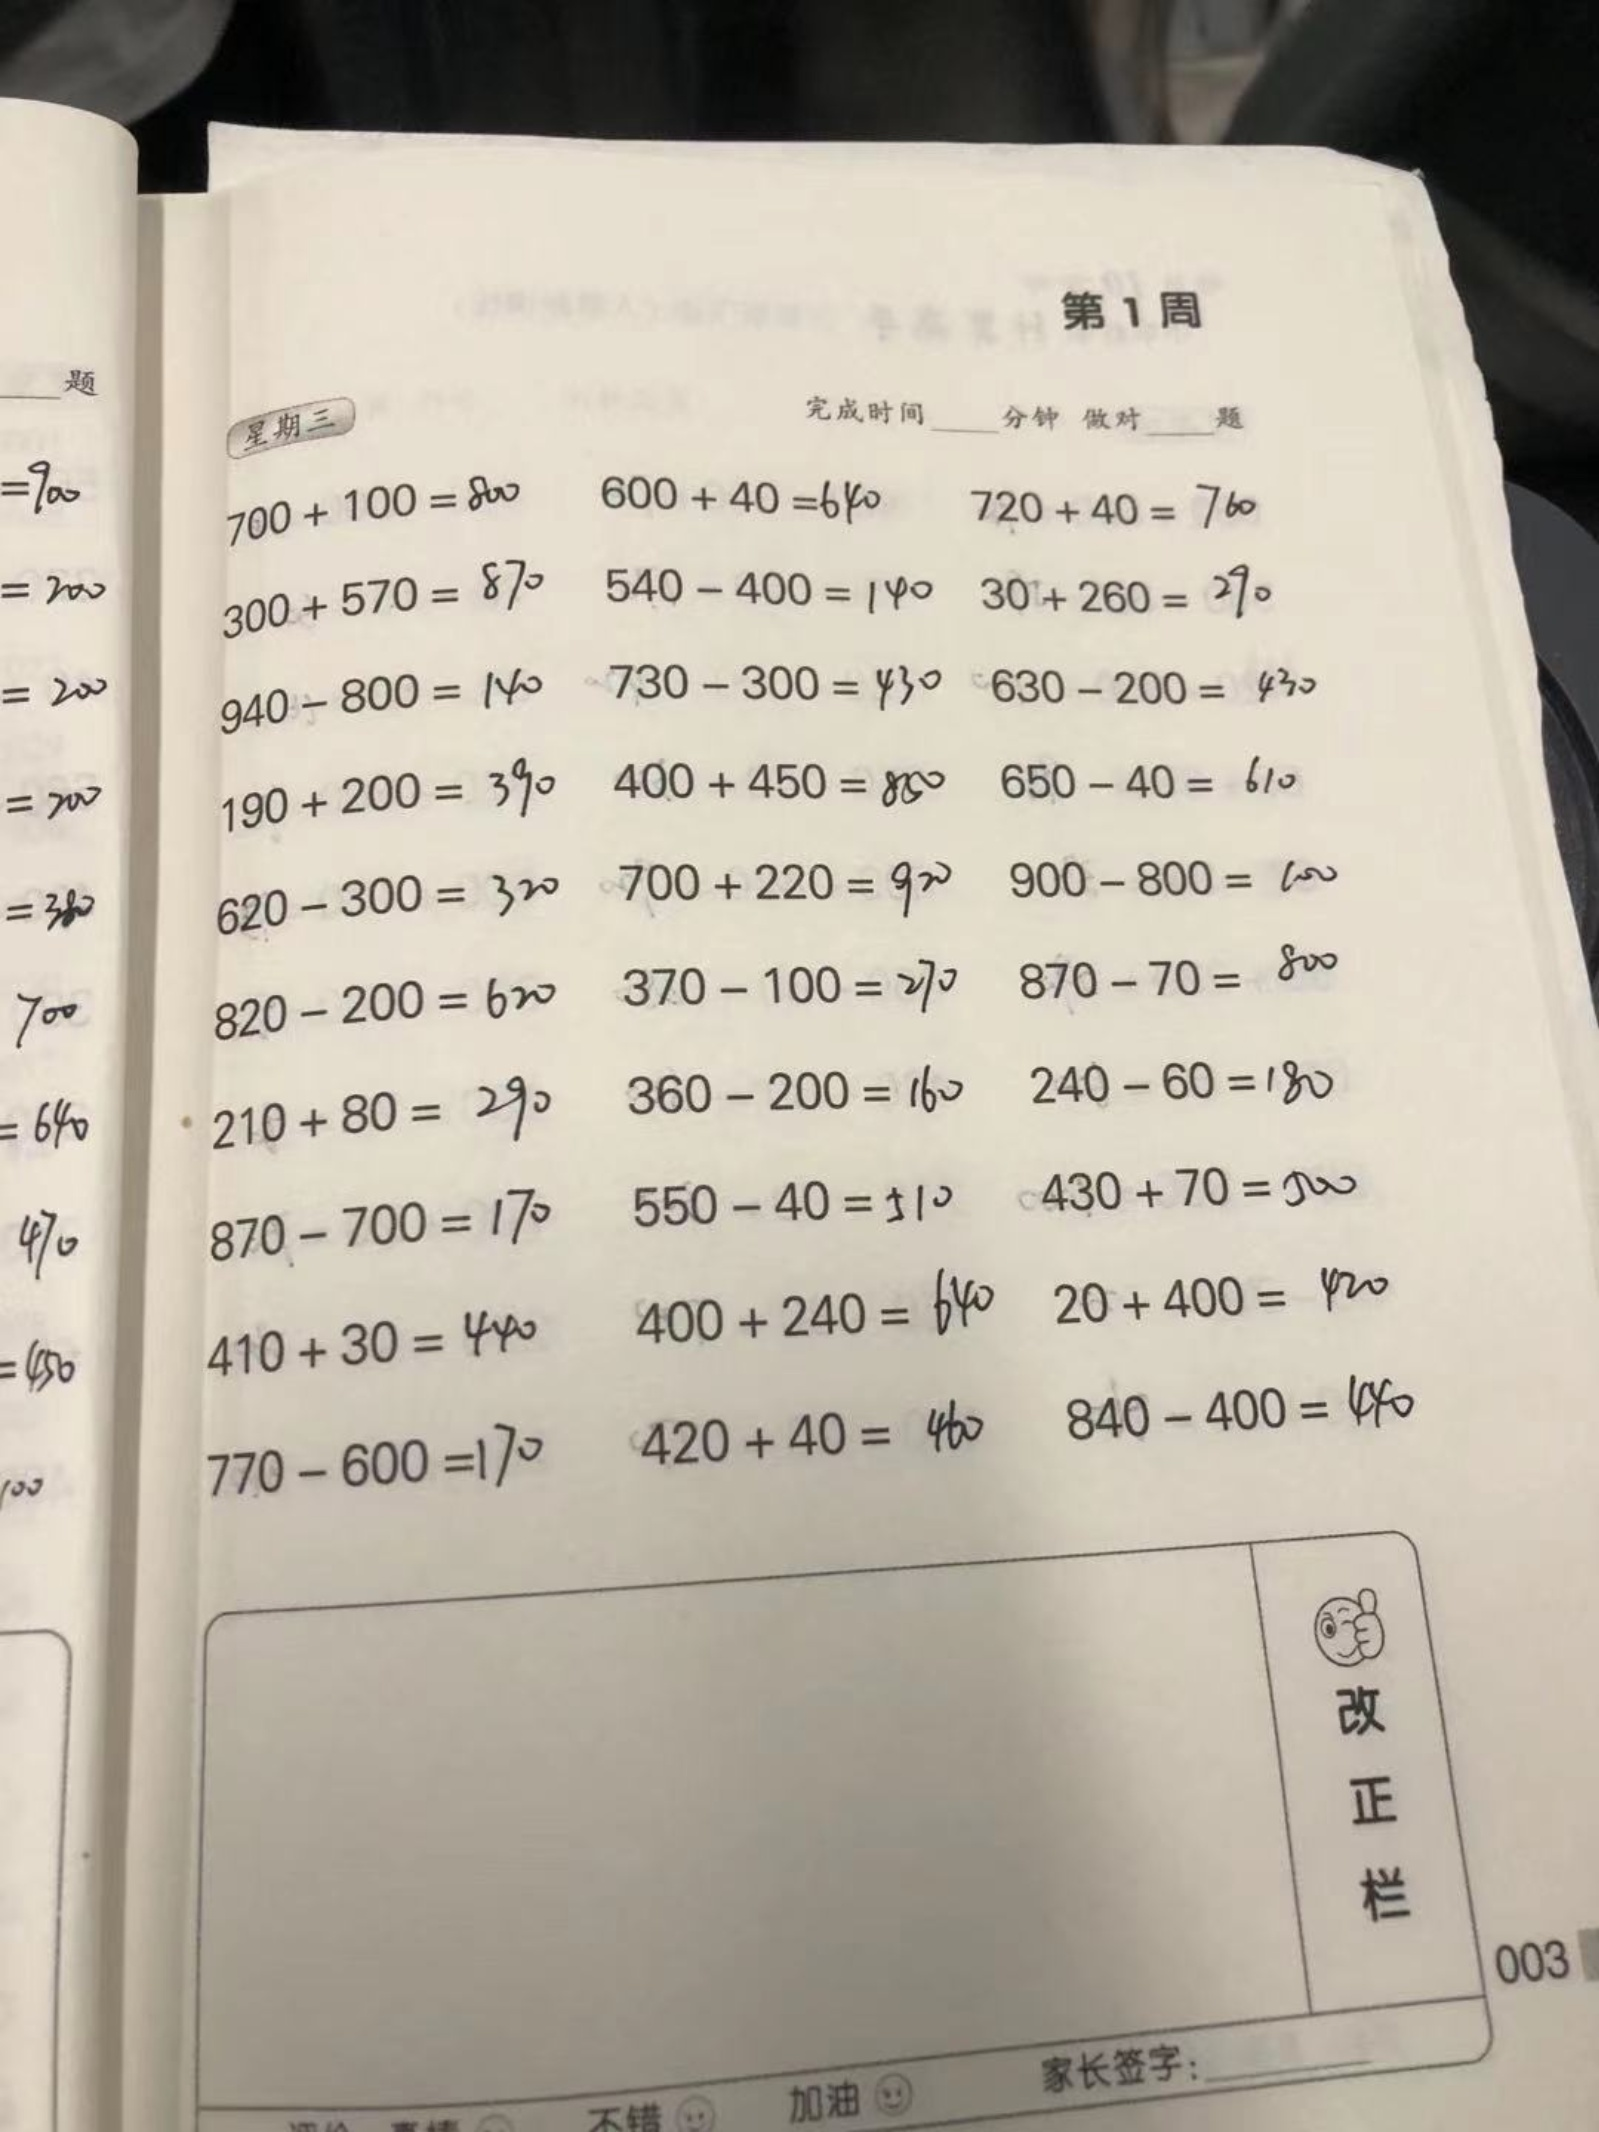equation: (208, 552, 606, 658), (620, 1261, 1003, 1370), (1048, 1363, 1455, 1461), (197, 1299, 593, 1398), (198, 960, 583, 1059), (1001, 923, 1379, 1024), (193, 1177, 583, 1271), (616, 1056, 1008, 1148), (1038, 1247, 1404, 1345), (190, 1427, 603, 1513), (198, 851, 586, 942), (203, 658, 600, 745), (183, 470, 583, 552), (633, 1398, 1014, 1482), (608, 846, 971, 933), (1003, 836, 1354, 923), (981, 658, 1366, 737), (1038, 1148, 1379, 1236), (598, 551, 957, 633), (222, 752, 574, 834), (630, 1177, 1003, 1254), (202, 1081, 579, 1157), (613, 955, 971, 1034), (611, 747, 973, 823), (959, 467, 1293, 546), (595, 653, 959, 725), (989, 745, 1334, 821), (1018, 1048, 1367, 1120), (595, 458, 917, 534), (967, 569, 1308, 640)
